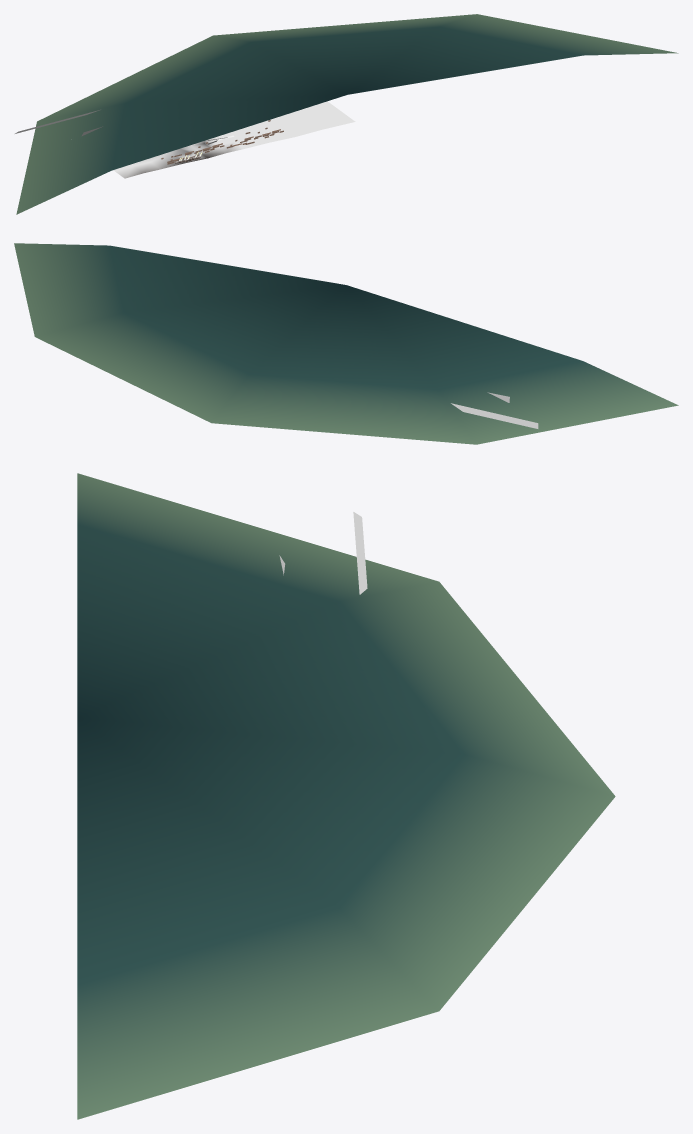
The model's file is Forest_03.fbx.
3 renders of one model, top to bottom at view 1: azimuth 30°, elevation 25°; view 2: azimuth 150°, elevation 25°; view 3: azimuth 270°, elevation 25°, orthographic. The views are drawn at different scales.
Parts seen in each view (by area): view 1: Bg_01_A01, Bg_01_A02, Tree_01_A_ncl1_1; view 2: Bg_01_A01, Cloud_01; view 3: Bg_01_A01.
Boxes of the visible parts, bbox=[...] form: Bg_01_A01: bbox=[16, 14, 678, 214]; Bg_01_A02: bbox=[113, 101, 355, 178]; Tree_01_A_ncl1_1: bbox=[161, 120, 283, 164]; Bg_01_A01: bbox=[14, 243, 678, 444]; Cloud_01: bbox=[451, 392, 538, 428]; Bg_01_A01: bbox=[77, 473, 615, 1119].
Size of the model in its own units: 8461 by 478 by 2977.
